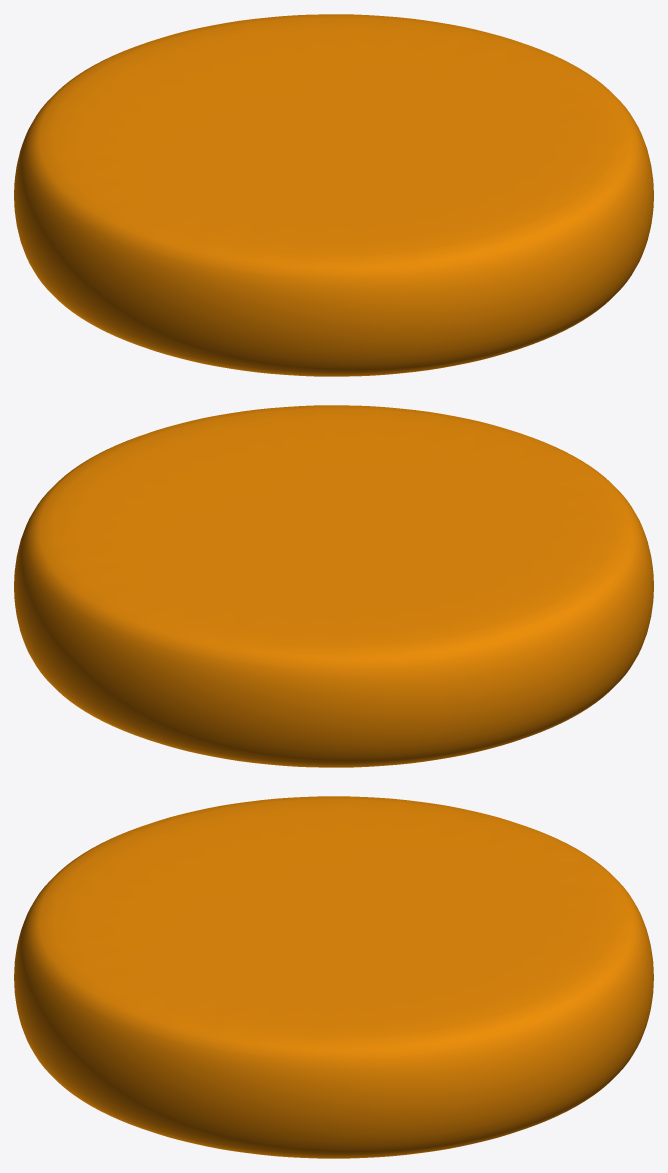
The model's file is Patty.fbx.
3 views of the same model, one above another, from view 1: azimuth 30°, elevation 25°; view 2: azimuth 150°, elevation 25°; view 3: azimuth 270°, elevation 25° (orthographic).
Parts seen in each view (by area): view 1: Cylinder.017; view 2: Cylinder.017; view 3: Cylinder.017.
Boxes of the visible parts, left/top/right/bottom form: Cylinder.017: left=14, top=14, right=653, bottom=376; Cylinder.017: left=14, top=405, right=653, bottom=767; Cylinder.017: left=14, top=796, right=653, bottom=1158.
Size of the model in its own units: 180 by 38.17 by 180.
